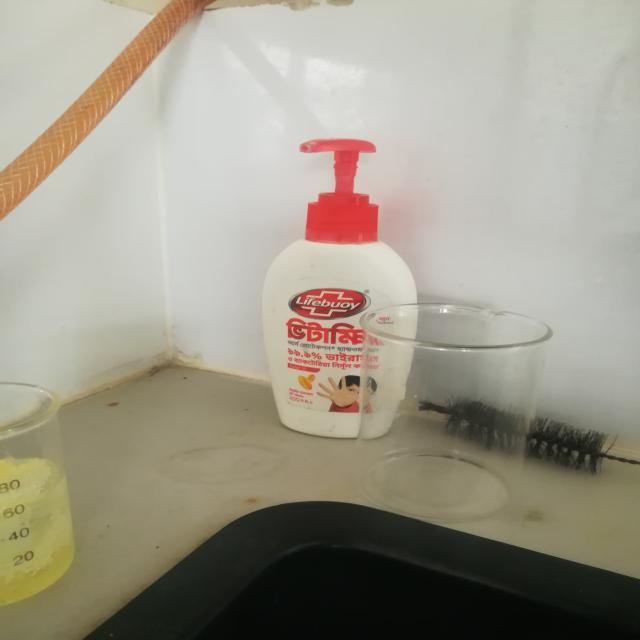Beaker: (332, 267, 564, 542)
